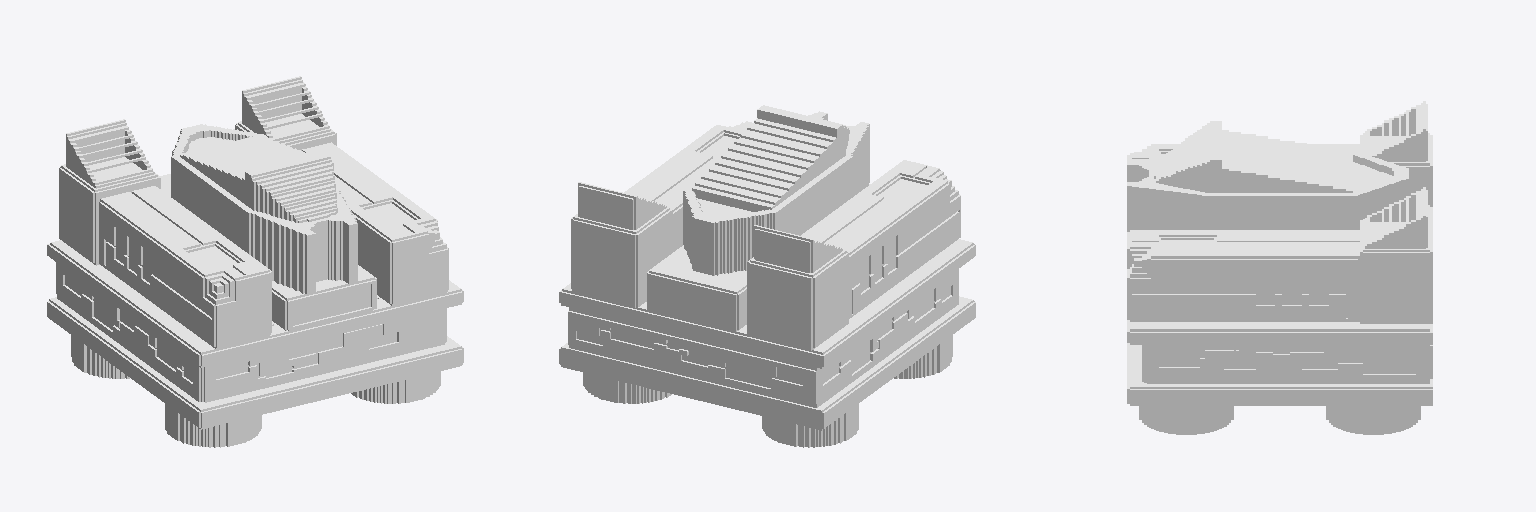
File: Green_birth.obj
The picture shows the model from 3 angles: view 1: azimuth 30°, elevation 25°; view 2: azimuth 150°, elevation 25°; view 3: azimuth 270°, elevation 25°; orthographic projection.
Parts seen in each view (by area): view 1: Green_birth; view 2: Green_birth; view 3: Green_birth.
Part boxes in pixels (x1,y1,x2,y2): Green_birth: (47, 76, 463, 447); Green_birth: (559, 105, 975, 447); Green_birth: (1127, 101, 1432, 434).
Size of the model in its own units: 126 by 105 by 126.